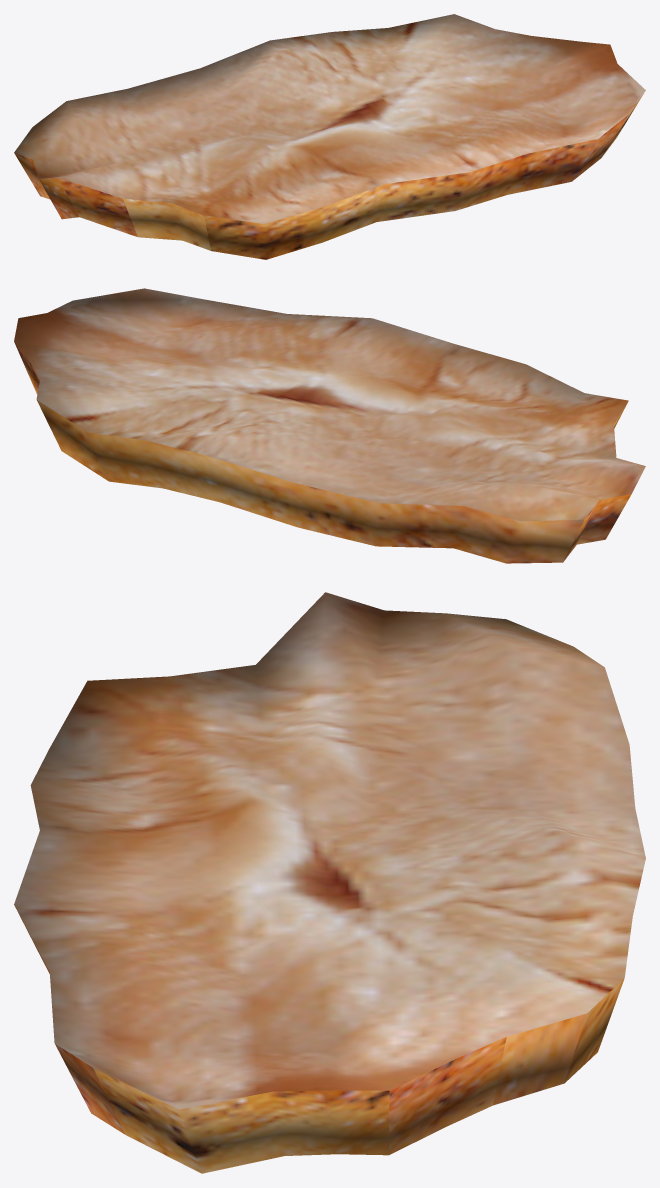
File: chicken.fbx
3 renders of one model, top to bottom at view 1: azimuth 30°, elevation 25°; view 2: azimuth 150°, elevation 25°; view 3: azimuth 270°, elevation 25°, orthographic. The views are drawn at different scales.
Visible parts, largest first — view 1: chicken; view 2: chicken; view 3: chicken.
Boxes of the visible parts, left/top/right/bottom form: chicken: left=14, top=14, right=645, bottom=259; chicken: left=14, top=288, right=645, bottom=563; chicken: left=14, top=592, right=645, bottom=1173.
Size of the model in its own units: 11.78 by 1.62 by 6.34.
Materials: 1 (1 with a texture image).
